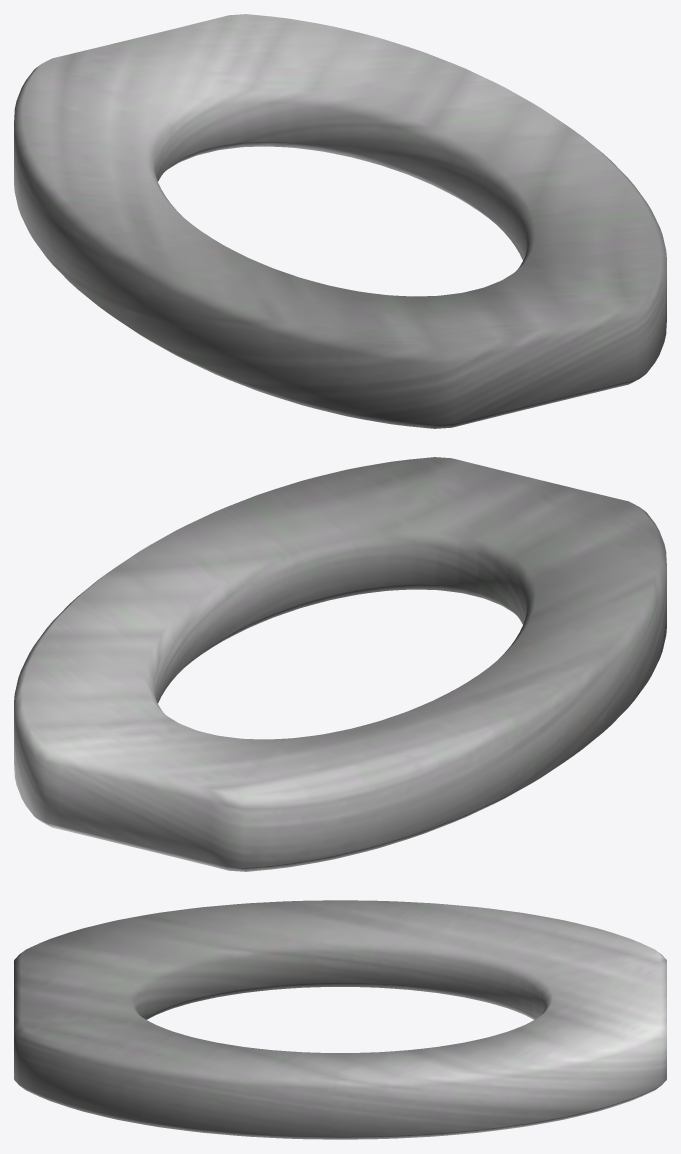
Rendered from 鎖パーツ.fbx.
3 views of the same model, one above another, from view 1: azimuth 30°, elevation 25°; view 2: azimuth 150°, elevation 25°; view 3: azimuth 270°, elevation 25° (orthographic). The views are drawn at different scales.
Parts seen in each view (by area): view 1: obj1; view 2: obj1; view 3: obj1.
Part boxes in pixels (box(x1,y1,x2,y2)): obj1: box(14, 14, 666, 428); obj1: box(14, 457, 666, 871); obj1: box(14, 900, 666, 1139).
Bounding box in the file's own units: 176 × 27.21 × 263.
